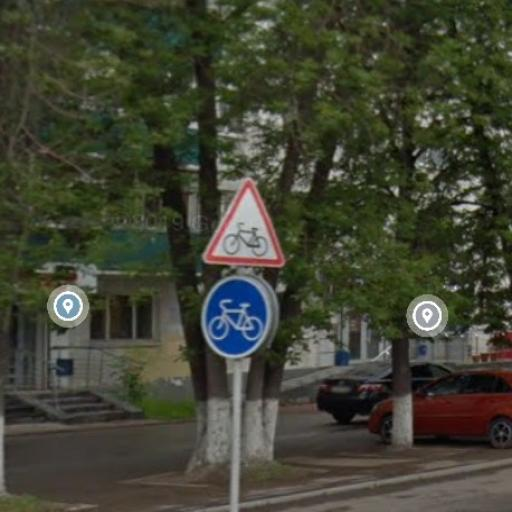traffic_sign: (201, 179, 290, 270), (201, 272, 274, 363)
